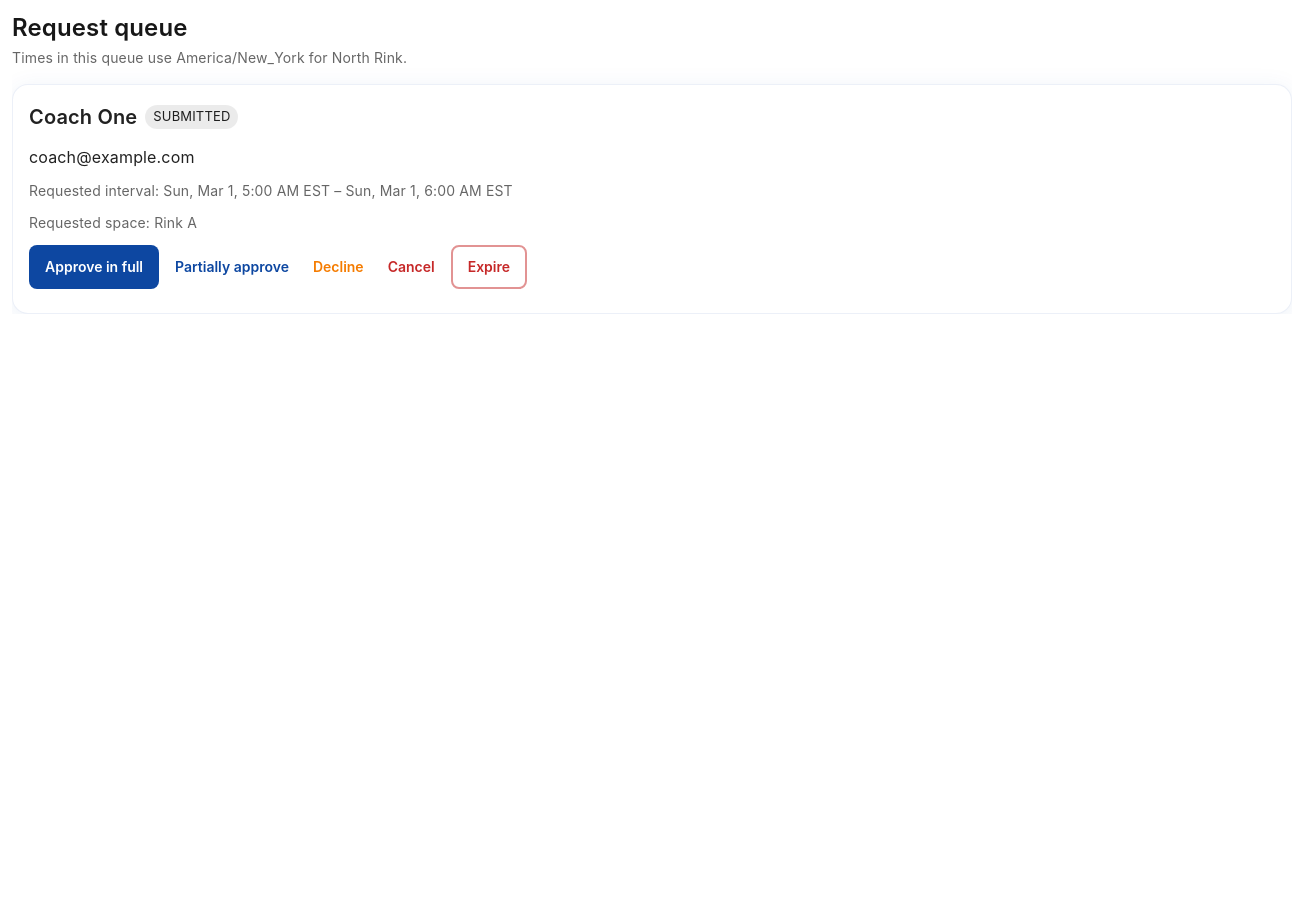
it: IceTimeRequestQueue › allows a whole-surface request to narrow only within the same surface
This screenshot has width=1292, height=912.
Click the button "Partially approve". click: (232, 267)
box: [167,245,297,289]
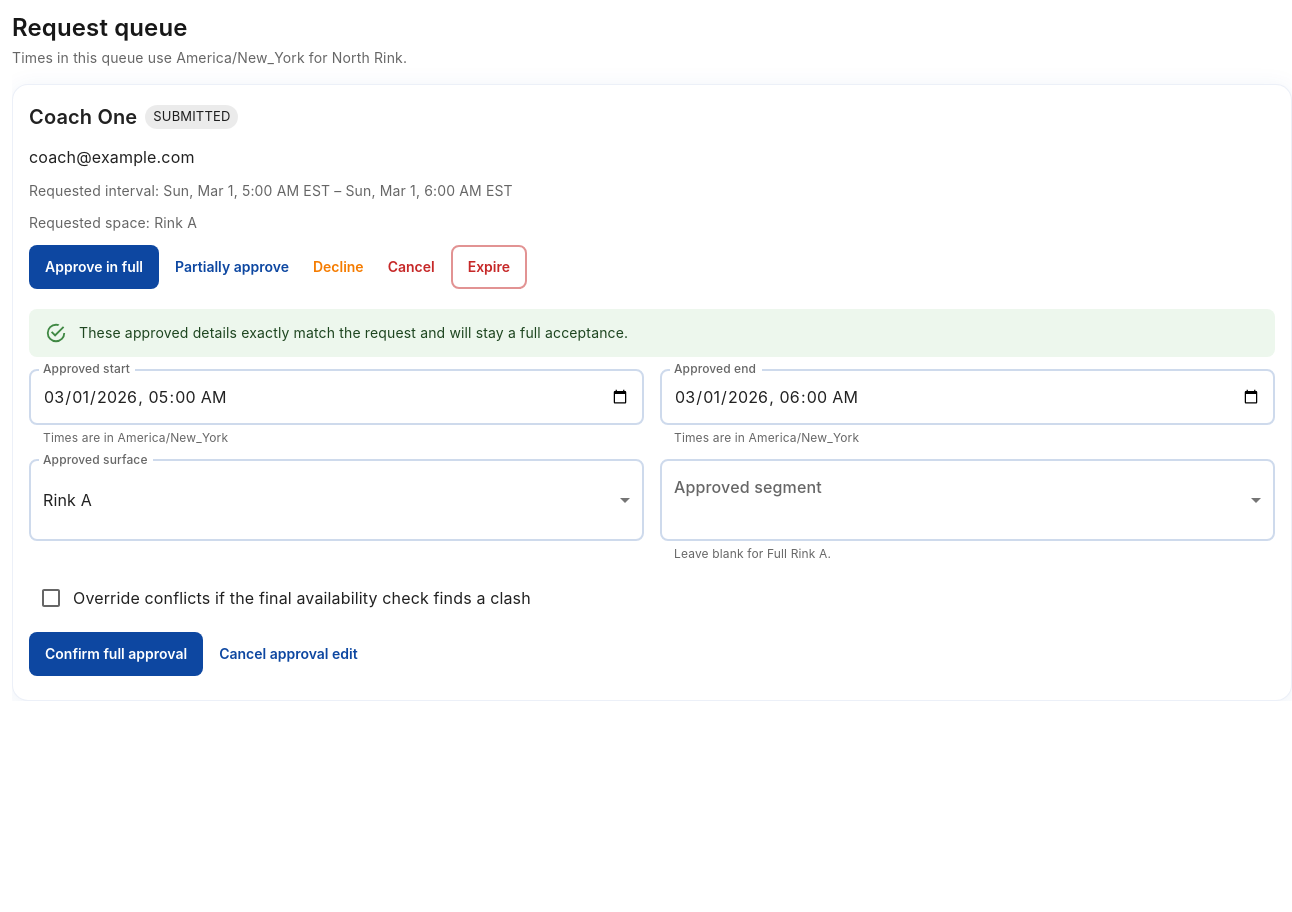
Click the dropdown named "approved surface". click: (67, 500)
box: [43,490,92,510]
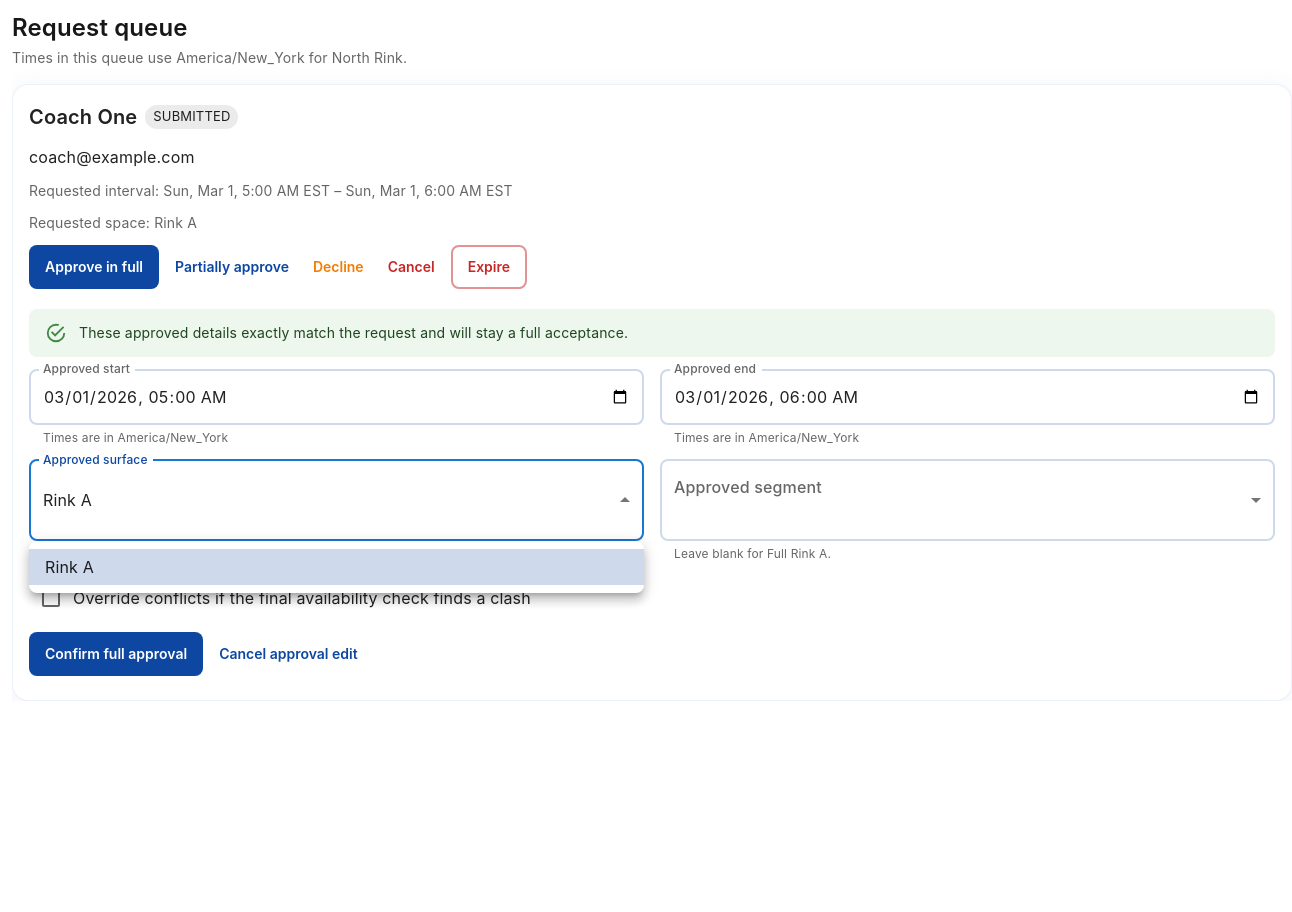
Click the option "Rink A". click: (69, 567)
box: [29,549,644,585]
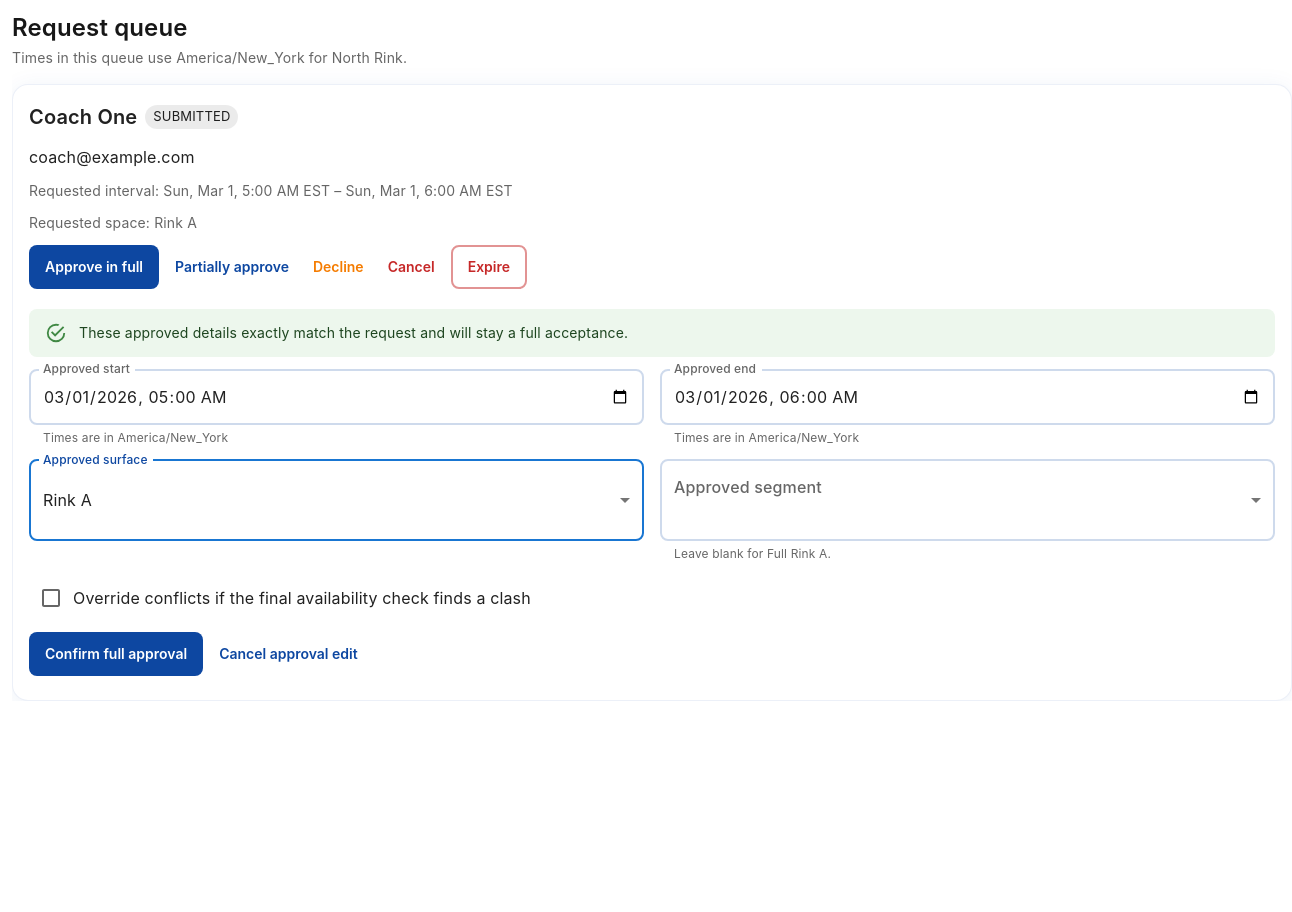
Click the dropdown named "approved segment". click: (968, 500)
box: [660,460,1275,541]
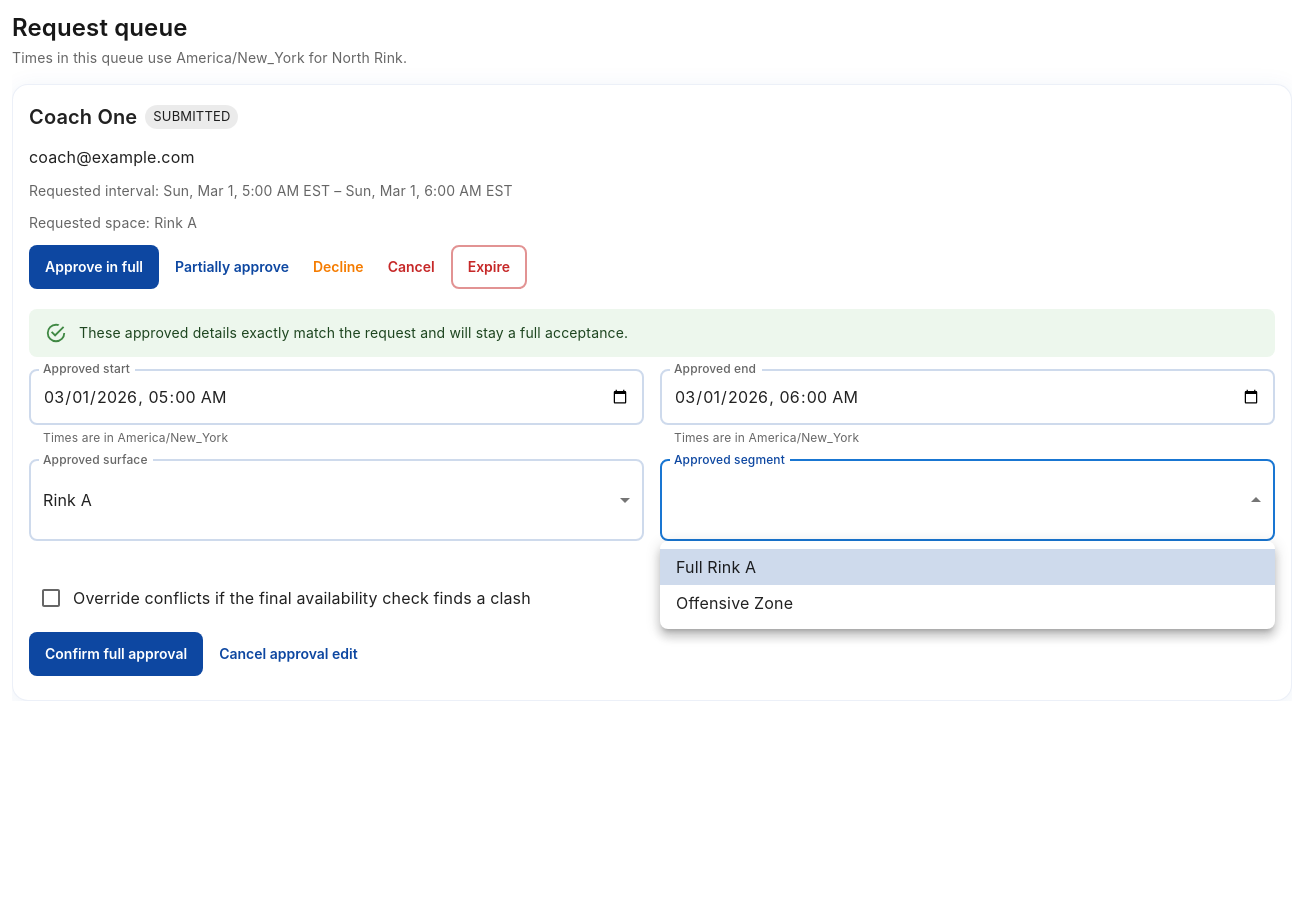
Expected: the option "Full Rink A" is shown, [660,549,1275,585]
Expected: the option "Offensive Zone" is shown, [676,593,793,613]
